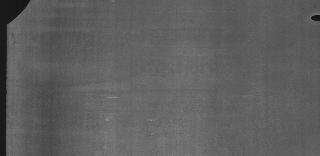punching hole: (308, 13, 320, 21)
